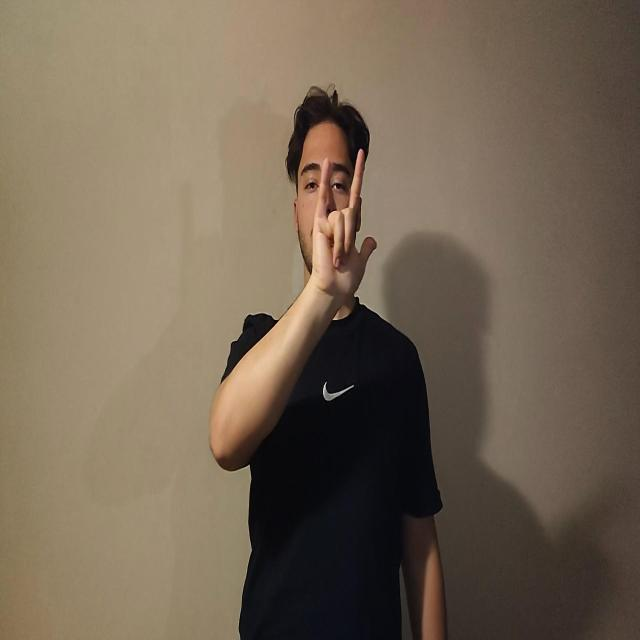iloveyou: (310, 148, 377, 302)
